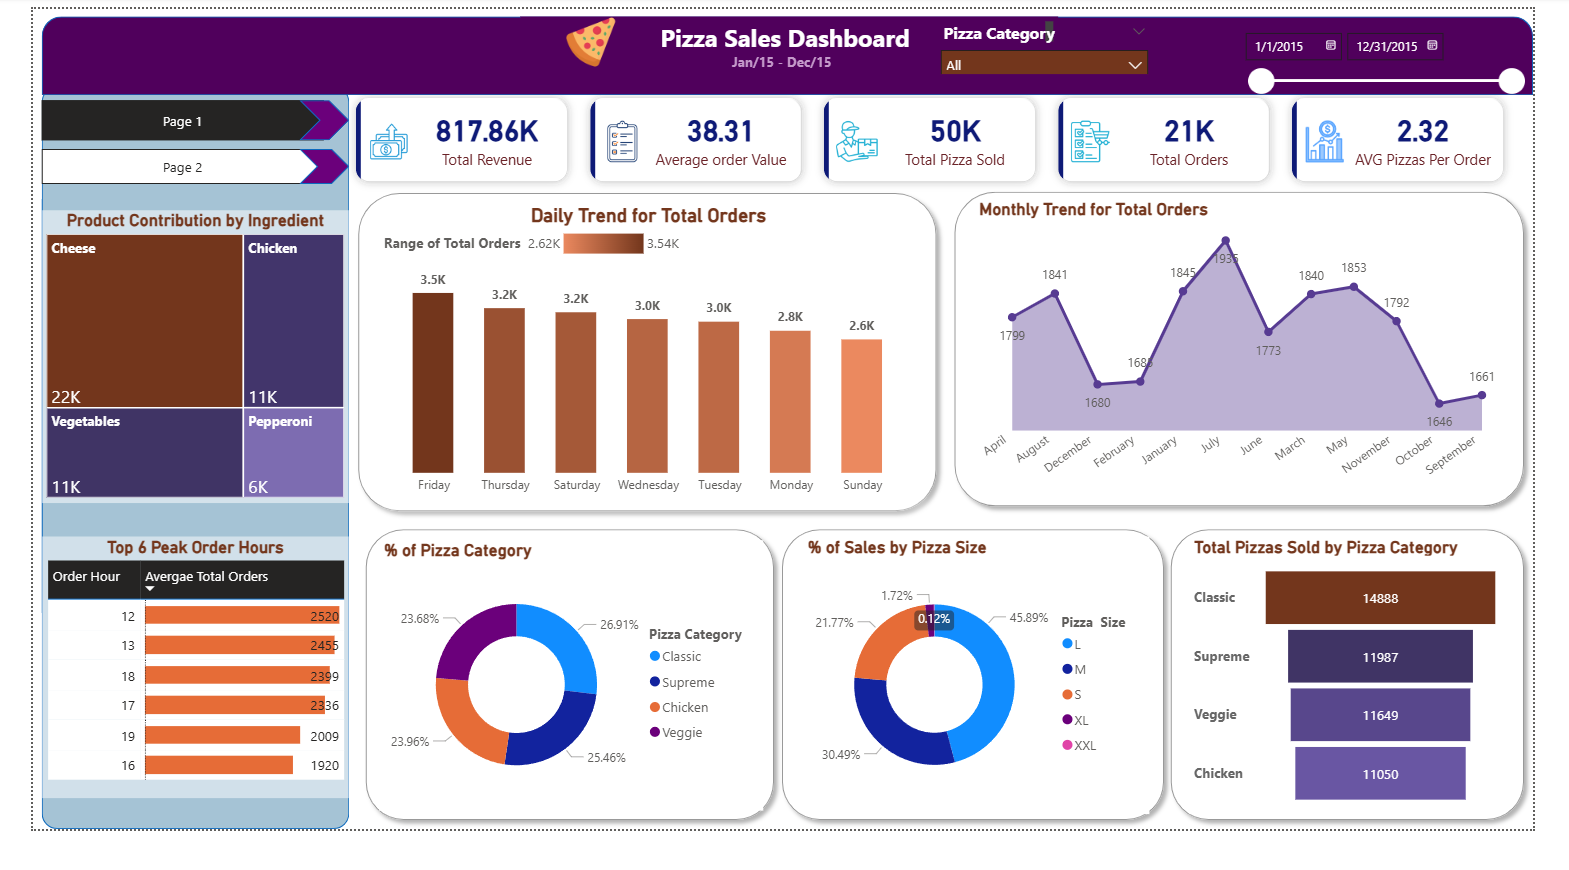

The page's visual inventory and layout, read from the dashboard file:
{"tool":"powerbi","page":{"name":"Page 1","canvas":[1500,820],"ordinal":0},"visuals":[{"type":"cardVisual","fields":{"Data":["Sum(total revenue.Total Revenue)","Avg(AVG order value.Average order Value)","Sum(Total pizza sold.Total pizza sold)","Sum(Total orders.Total Orders)","Avg(AVG pizza per order.Avg_Pizzas_per_order)"]},"box":[295,61.2,1205,140],"z":0},{"type":"shape","box":[8.8,77.5,307.5,742.5],"z":1000},{"type":"shape","box":[8.8,7.5,1491.2,78.8],"z":2000},{"type":"textbox","box":[487.5,7.5,537.5,41.2],"z":3000},{"type":"image","box":[514.3,7.1,88.6,51.4],"z":4000},{"type":"textbox","box":[652.5,38.8,192.5,30],"z":5000},{"type":"shape","box":[316.2,175,596.2,336.2],"z":6000},{"type":"columnChart","title":"Daily Trend for Total Orders","fields":{"Category":["daily trend for total order.order_day"],"Y":["Sum(daily trend for total order.total_orders)"]},"box":[346.2,195,538.8,298.8],"z":7000},{"type":"shape","box":[912.5,173.8,587.5,332.5],"z":8000},{"type":"areaChart","title":"Monthly Trend for Total Orders","fields":{"Y":["Sum(monthly trend for total orders.total_orders)"],"Category":["monthly trend for total orders.order_day"]},"box":[941.2,190,530,298.8],"z":9000},{"type":"shape","box":[323.8,511.2,426.2,308.8],"z":10000},{"type":"donutChart","title":"% of Pizza Category","fields":{"Category":["percentage of sales by pizza category.pizza_category"],"Y":["Sum(percentage of sales by pizza category.Percentage Category Total)"]},"box":[346.2,531.2,383.8,270],"z":11000},{"type":"shape","box":[740,511.2,400,308.8],"z":12000},{"type":"shape","box":[1128.8,511.2,371.2,308.8],"z":13000},{"type":"donutChart","title":"% of Sales by Pizza Size","fields":{"Category":["percentage of sales by pizza size.pizza_size"],"Y":["Sum(percentage of sales by pizza size.Percentage Category Total)"]},"box":[770,527.5,346.2,277.5],"z":14000},{"type":"funnel","title":"Total Pizzas Sold by Pizza Category","fields":{"Category":["total pizza sold by category.pizza_category"],"Y":["Sum(total pizza sold by category.Total Quantity Sold)"]},"box":[1156.2,527.5,316.2,277.5],"z":15000},{"type":"treemap","title":"Product Contribution by Ingredient","fields":{"Group":["total quantity of ingredients needs.Main_Ingredient"],"Values":["Sum(total quantity of ingredients needs.Total_Quantity_Sold)"]},"box":[8.8,201.2,307.5,292.5],"z":16000},{"type":"tableEx","title":"Top 6 Peak Order Hours","fields":{"Values":["Peak hours analysis.Order_Hour","Peak hours analysis.Total_Orders"]},"box":[8.8,527.5,307.5,261.2],"z":17000},{"type":"slicer","fields":{"Values":["pizza_sales_data.pizza_category"]},"box":[897.5,7.5,227.5,57.5],"z":18000},{"type":"slicer","fields":{"Values":["pizza_sales_data.order_date"]},"box":[1200,0,300,88],"z":19000},{"type":"pageNavigator","box":[8.8,91.2,282.5,40],"z":20000},{"type":"pageNavigator","box":[8.8,140,282.5,35],"z":21000},{"type":"shape","box":[266.2,140,50,35],"z":22000},{"type":"shape","box":[266.2,91.2,50,40],"z":23000}]}

Visuals, with their boxes in screenshot pixels (x1, y1, x2, y2), scaled from the page's 1500x820 canvas onto the 1569x870 screenshot:
cardVisual - Sum(total revenue.Total Revenue) x Avg(AVG order value.Average order Value): 309,65,1568,213
shape: 9,82,331,869
shape: 9,8,1568,92
textbox: 510,8,1072,52
image: 538,8,631,62
textbox: 683,41,884,73
shape: 331,186,954,542
"Daily Trend for Total Orders" columnChart: 362,207,926,524
shape: 954,184,1568,537
"Monthly Trend for Total Orders" areaChart: 984,202,1539,519
shape: 339,542,784,869
"% of Pizza Category" donutChart: 362,564,764,850
shape: 774,542,1192,869
shape: 1181,542,1568,869
"% of Sales by Pizza Size" donutChart: 805,560,1168,854
"Total Pizzas Sold by Pizza Category" funnel: 1209,560,1540,854
"Product Contribution by Ingredient" treemap: 9,213,331,524
"Top 6 Peak Order Hours" tableEx: 9,560,331,837
slicer - pizza_sales_data.pizza_category: 939,8,1177,69
slicer - pizza_sales_data.order_date: 1255,0,1568,93
pageNavigator: 9,97,305,139
pageNavigator: 9,149,305,186
shape: 278,149,331,186
shape: 278,97,331,139
